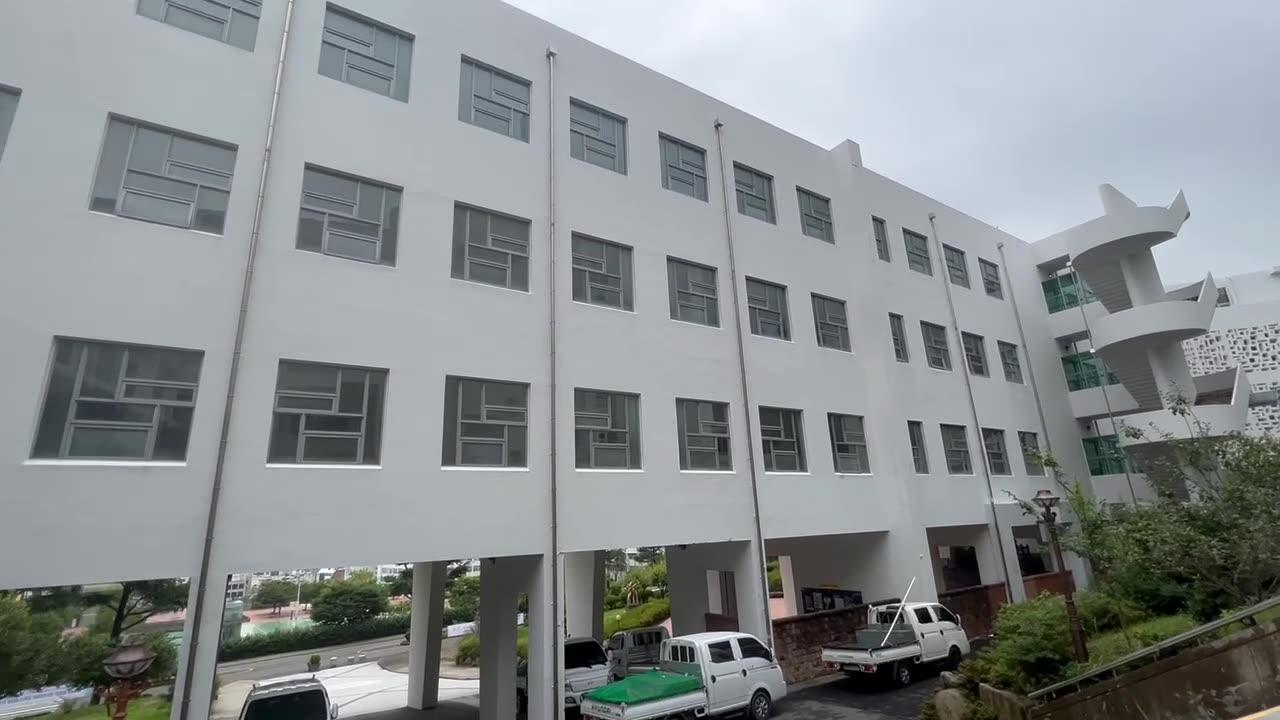building: (44, 33, 1031, 510)
